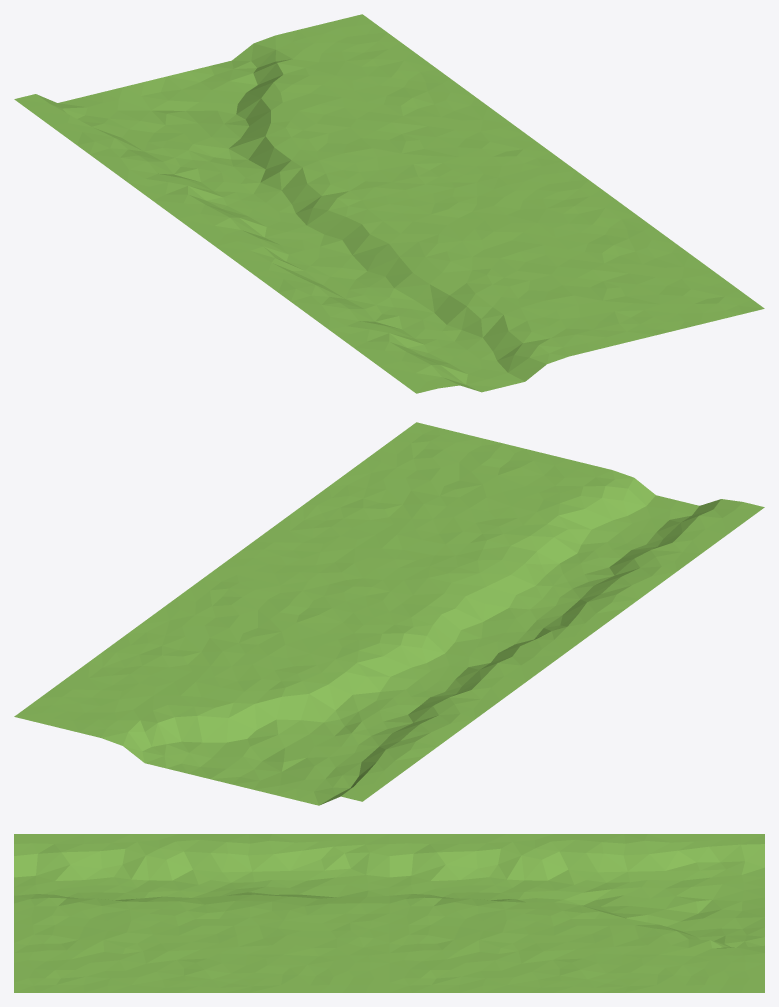
File: MT_River_End_M_b_02_LOD.fbx
The picture shows the model from 3 angles, top to bottom: view 1: azimuth 30°, elevation 25°; view 2: azimuth 150°, elevation 25°; view 3: azimuth 270°, elevation 25°; orthographic projection. The views are drawn at different scales.
Visible parts, largest first — view 1: MT_River_End_M_b_02_LOD0; view 2: MT_River_End_M_b_02_LOD0; view 3: MT_River_End_M_b_02_LOD0.
Boxes of the visible parts, box(x1,y1,x2,y2) form: MT_River_End_M_b_02_LOD0: box(14, 14, 764, 393); MT_River_End_M_b_02_LOD0: box(14, 422, 764, 805); MT_River_End_M_b_02_LOD0: box(14, 834, 764, 992).
Size of what is drawn, in the model's own units: 50 by 2.69 by 100.
